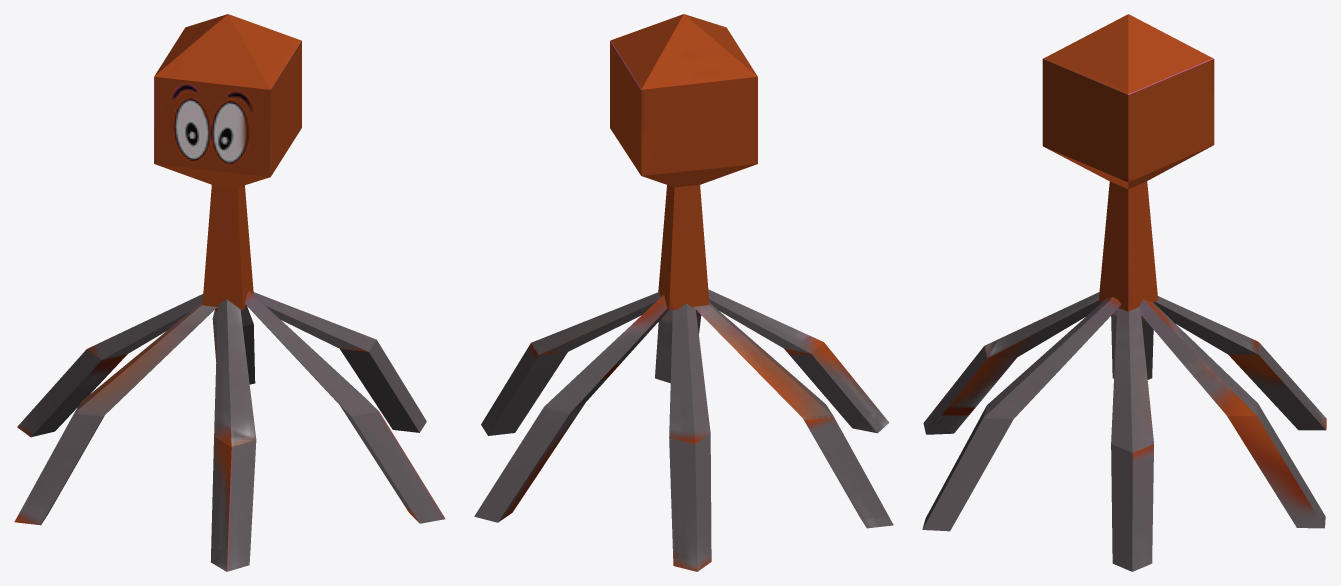
Rendered from bacteria.fbx.
3 renders of one model, left to right at view 1: azimuth 30°, elevation 25°; view 2: azimuth 150°, elevation 25°; view 3: azimuth 270°, elevation 25°, orthographic.
Parts seen in each view (by area): view 1: Bacteria; view 2: Bacteria; view 3: Bacteria.
Boxes of the visible parts, x1,y1,x2,y2 form: Bacteria: [14, 14, 445, 571]; Bacteria: [474, 14, 893, 571]; Bacteria: [922, 14, 1326, 571].
Size of the model in its own units: 3.45 by 3.66 by 2.92.
